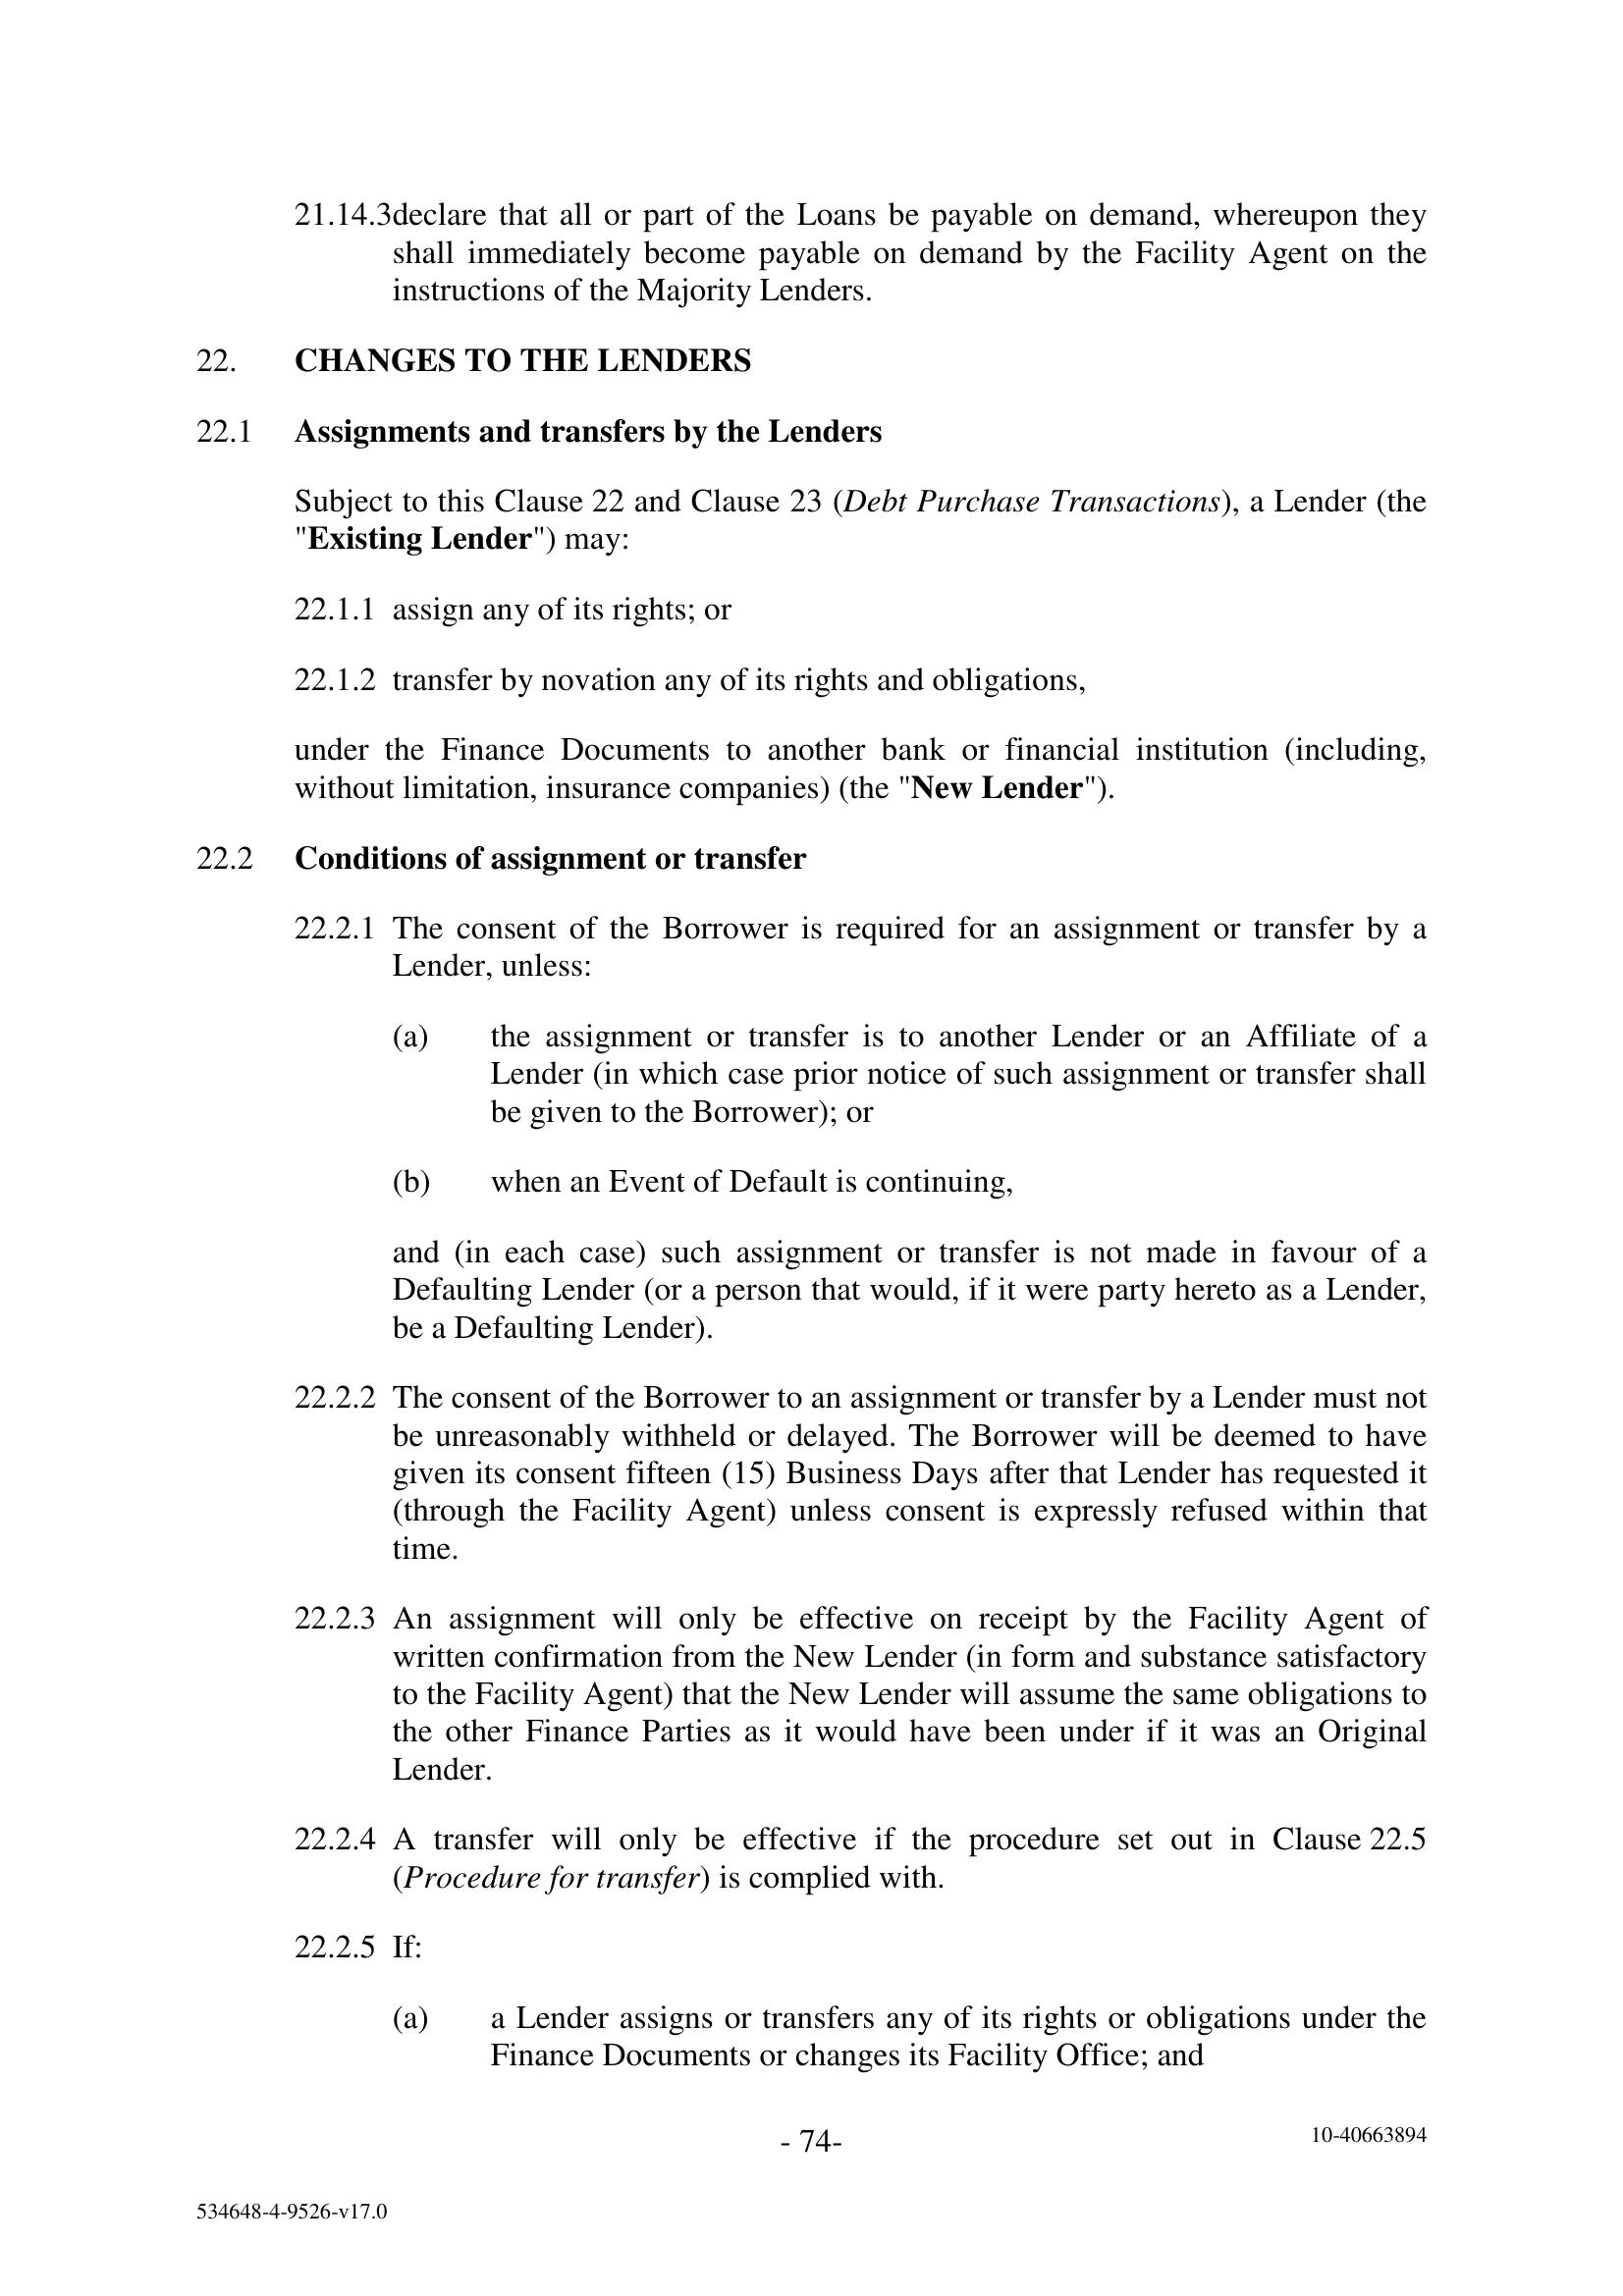pageno: (738, 2091, 889, 2210)
tag: (1184, 2091, 1551, 2199), (95, 2166, 469, 2266)
